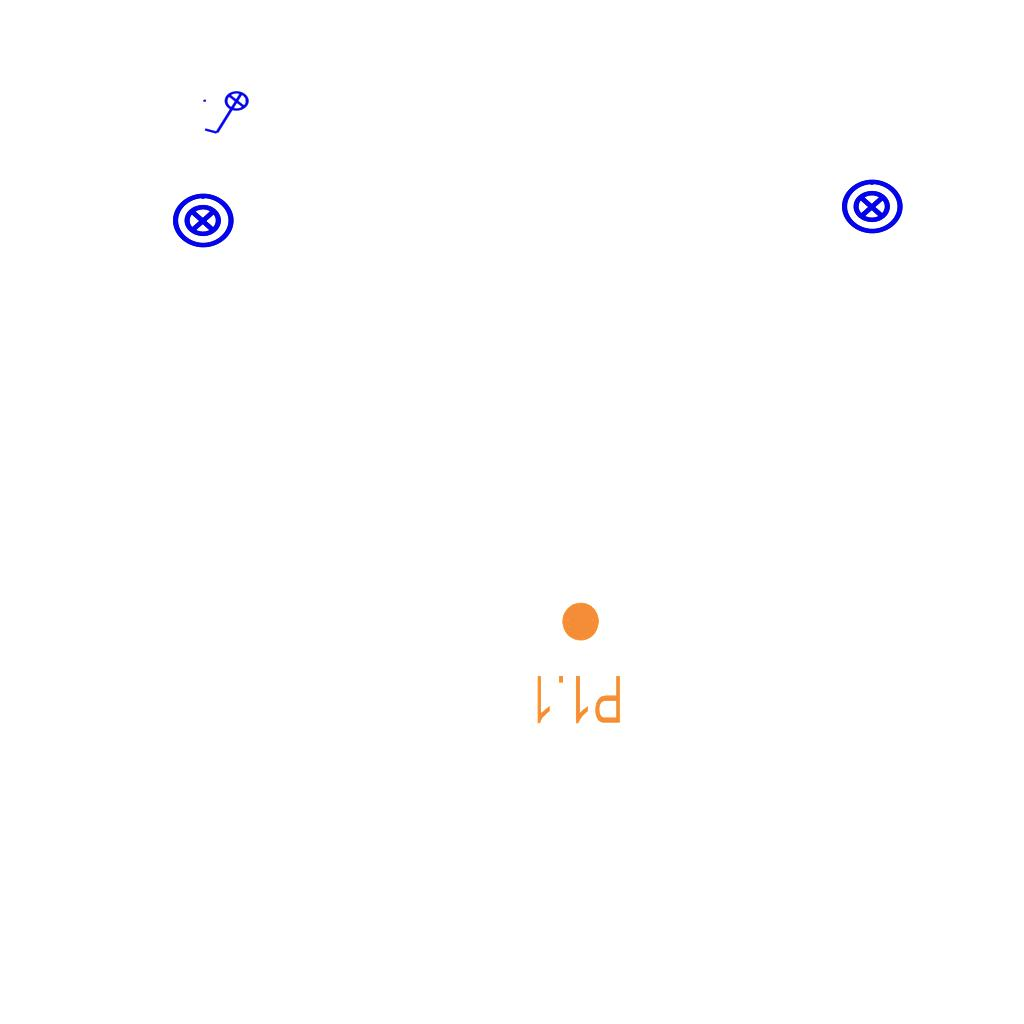Ausschalter_beleuchtet: (200, 90, 256, 138)
Downlight_LED_Einbauleuchten_Flur: (531, 599, 624, 727)
Taster_beleuchtet: (839, 174, 905, 240), (170, 188, 236, 254)
